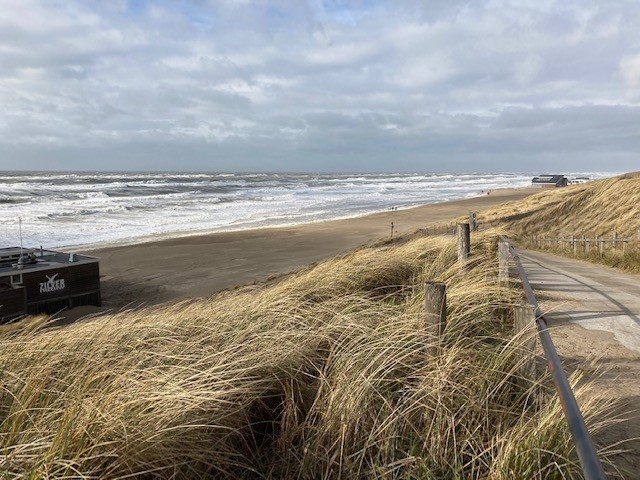pad: (495, 230, 640, 402)
